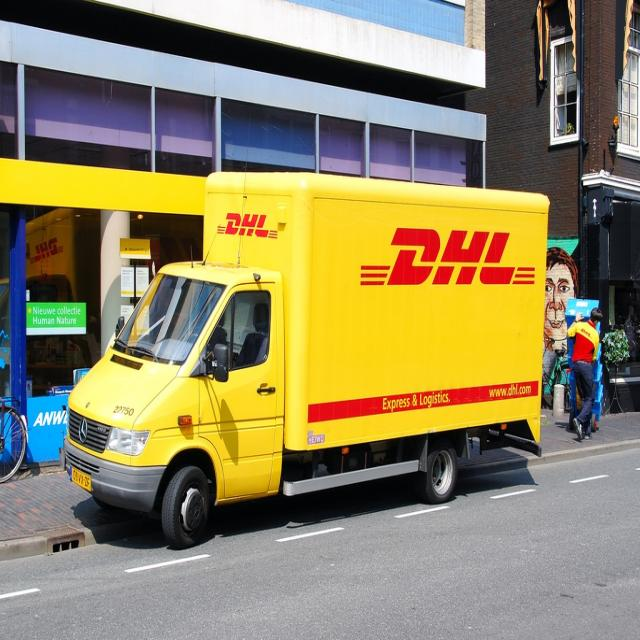dhl: (353, 214, 545, 298), (213, 209, 290, 255)
